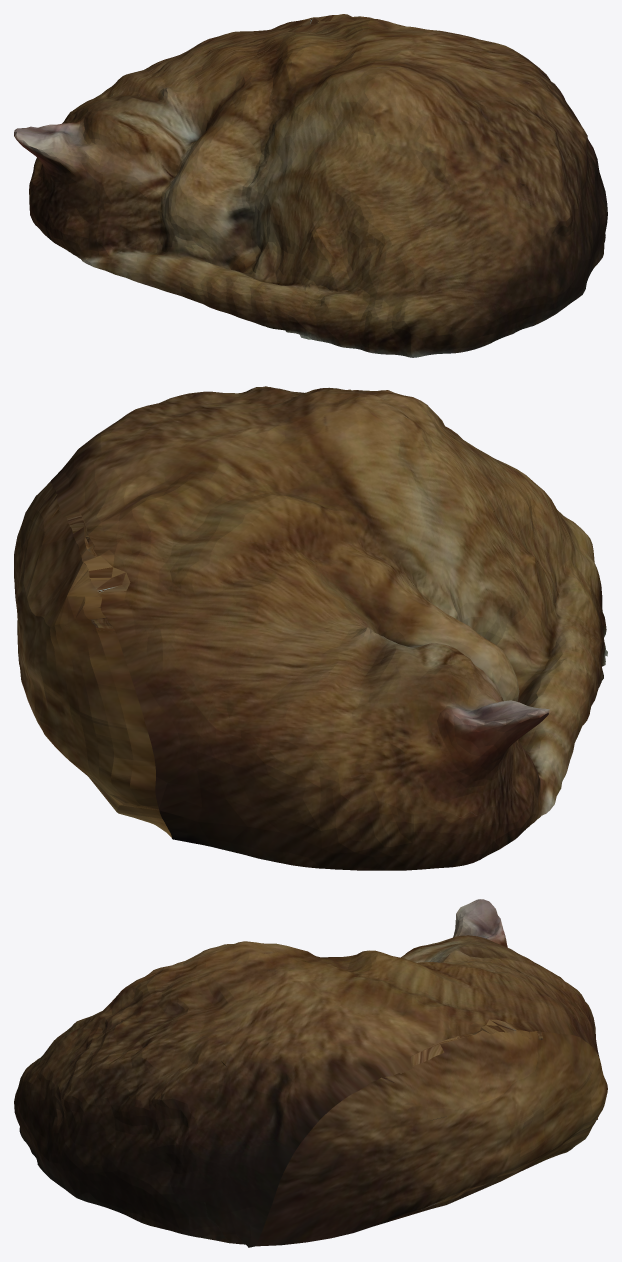
File: riso.glb
The picture shows the model from 3 angles, top to bottom: view 1: azimuth 30°, elevation 25°; view 2: azimuth 150°, elevation 25°; view 3: azimuth 270°, elevation 25°; orthographic projection. The views are drawn at different scales.
Parts seen in each view (by area): view 1: Mesh_0; view 2: Mesh_0; view 3: Mesh_0.
Boxes of the visible parts, left/top/right/bottom form: Mesh_0: left=14, top=14, right=607, bottom=357; Mesh_0: left=14, top=386, right=607, bottom=870; Mesh_0: left=14, top=899, right=607, bottom=1247.
Bounding box in the file's own units: 0.7418 × 0.2918 × 0.7864.
Materials: 1 (1 with a texture image).
